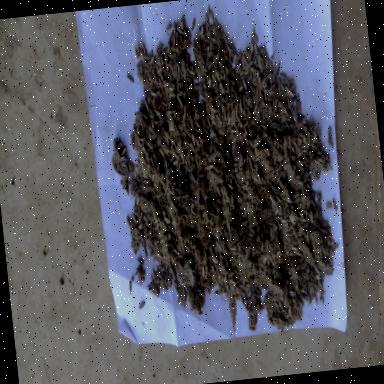pbw: (248, 38, 256, 54), (228, 63, 236, 79), (268, 190, 276, 206), (181, 102, 188, 120), (126, 70, 135, 84), (198, 22, 205, 39), (244, 46, 252, 60), (252, 28, 259, 44), (176, 62, 182, 80), (291, 107, 298, 122), (252, 101, 260, 114), (226, 42, 233, 56), (170, 266, 176, 282), (154, 108, 162, 120), (120, 144, 128, 156), (264, 57, 272, 69), (208, 128, 216, 140), (158, 146, 166, 158), (144, 96, 150, 112), (210, 254, 218, 266), (192, 50, 198, 66), (132, 124, 138, 139), (207, 2, 212, 19), (242, 78, 248, 92), (276, 60, 282, 74), (133, 46, 139, 60), (191, 17, 197, 31), (242, 119, 250, 129), (239, 98, 244, 114), (296, 178, 304, 188), (296, 148, 304, 158), (277, 76, 282, 92), (210, 104, 218, 114), (209, 34, 217, 44), (132, 212, 138, 225), (258, 76, 264, 88), (308, 128, 312, 146), (216, 185, 222, 197), (178, 96, 184, 108), (312, 158, 320, 167), (211, 9, 215, 27), (163, 216, 171, 225), (280, 70, 288, 79), (182, 66, 188, 78), (254, 42, 259, 56), (249, 156, 254, 170), (201, 264, 206, 278), (227, 182, 234, 192), (189, 202, 196, 212), (289, 289, 297, 297), (156, 41, 164, 49), (176, 26, 184, 34), (266, 72, 274, 80), (172, 158, 180, 166), (293, 196, 301, 204), (226, 76, 230, 92), (240, 219, 248, 227), (150, 90, 158, 98), (173, 20, 177, 36), (166, 22, 173, 31), (269, 53, 276, 62), (236, 62, 243, 71), (192, 60, 198, 70), (204, 164, 214, 170), (298, 216, 308, 222), (192, 132, 196, 146), (170, 52, 177, 60), (292, 194, 300, 201), (137, 223, 144, 231), (162, 80, 169, 88), (208, 76, 212, 90), (167, 40, 171, 54), (205, 14, 209, 28), (230, 278, 237, 286), (288, 135, 292, 149), (237, 84, 244, 92), (226, 116, 232, 125), (254, 70, 260, 79), (176, 38, 180, 51), (261, 123, 268, 130), (190, 68, 196, 76), (292, 140, 298, 148), (226, 272, 234, 278), (170, 91, 176, 99), (314, 274, 322, 280), (232, 136, 238, 144), (209, 39, 213, 50), (214, 15, 218, 26), (240, 226, 244, 237), (122, 179, 126, 189), (136, 196, 141, 204), (172, 37, 176, 47), (150, 56, 154, 66), (124, 179, 128, 189), (156, 68, 162, 74), (168, 108, 174, 114), (188, 83, 193, 90), (292, 246, 298, 250), (169, 86, 174, 90), (144, 175, 148, 179)
